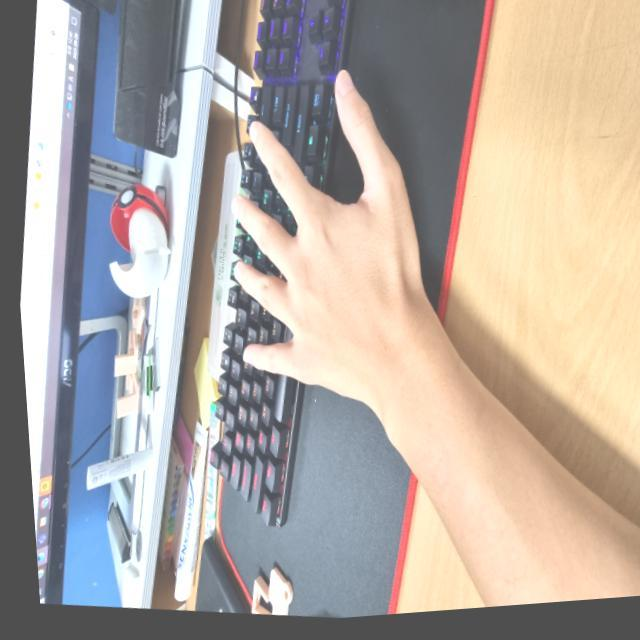keyboard-with-hands: (206, 0, 351, 537)
